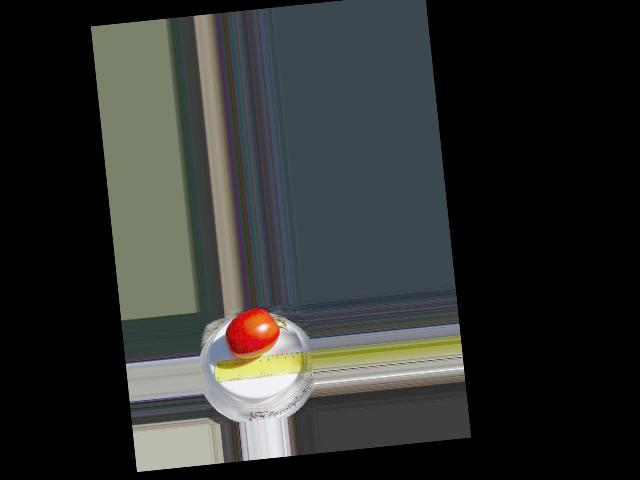tomato: (223, 306, 283, 361)
